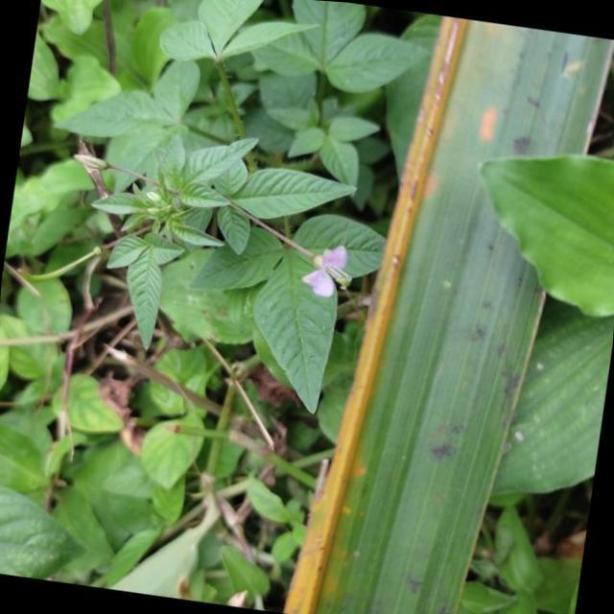Megnesium: (276, 16, 612, 614)
